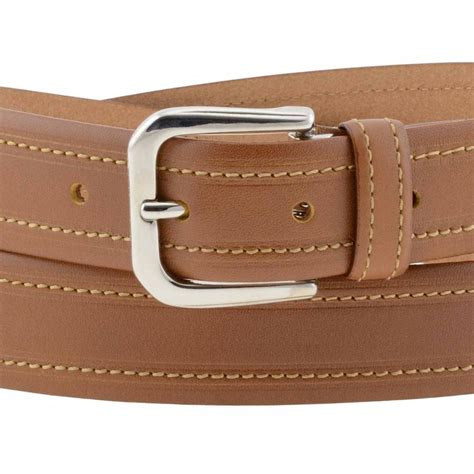cuero: (1, 61, 474, 407)
